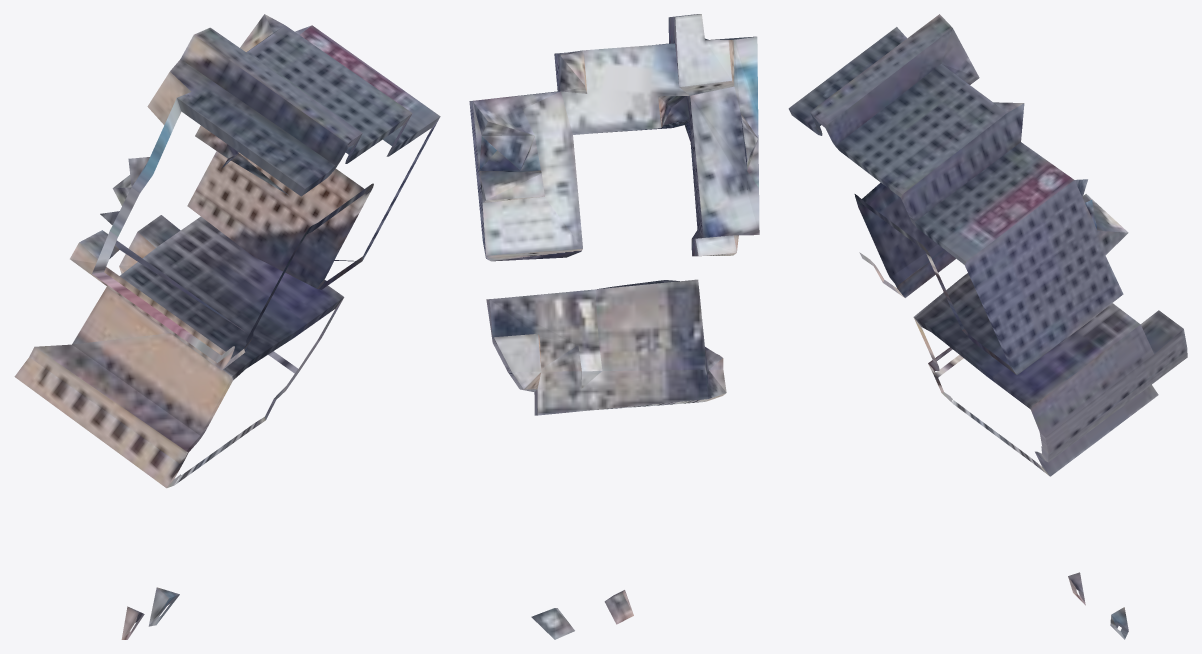
3 renders of one model, left to right at view 1: azimuth 30°, elevation 25°; view 2: azimuth 150°, elevation 25°; view 3: azimuth 270°, elevation 25°, orthographic. The views are drawn at different scales.
Bounding box in the file's own units: 74.65 × 133 × 80.88.
1 material, 1 textured.
